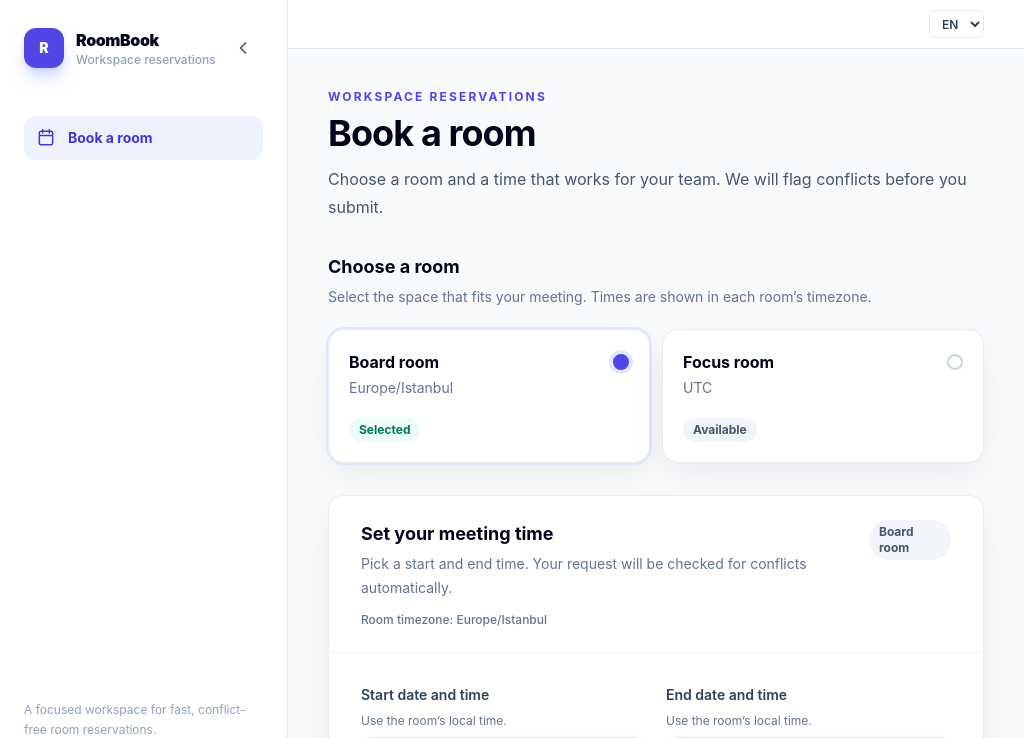
Test: application workspace › selects a real room and updates the booking context
Expected: the radio button labelled "Board room Europe/Istanbul Selected" is shown, [329, 330, 649, 462]
Step 1. Click the radio button labelled "Focus room UTC Available" → (729, 362), box [663, 330, 983, 462]
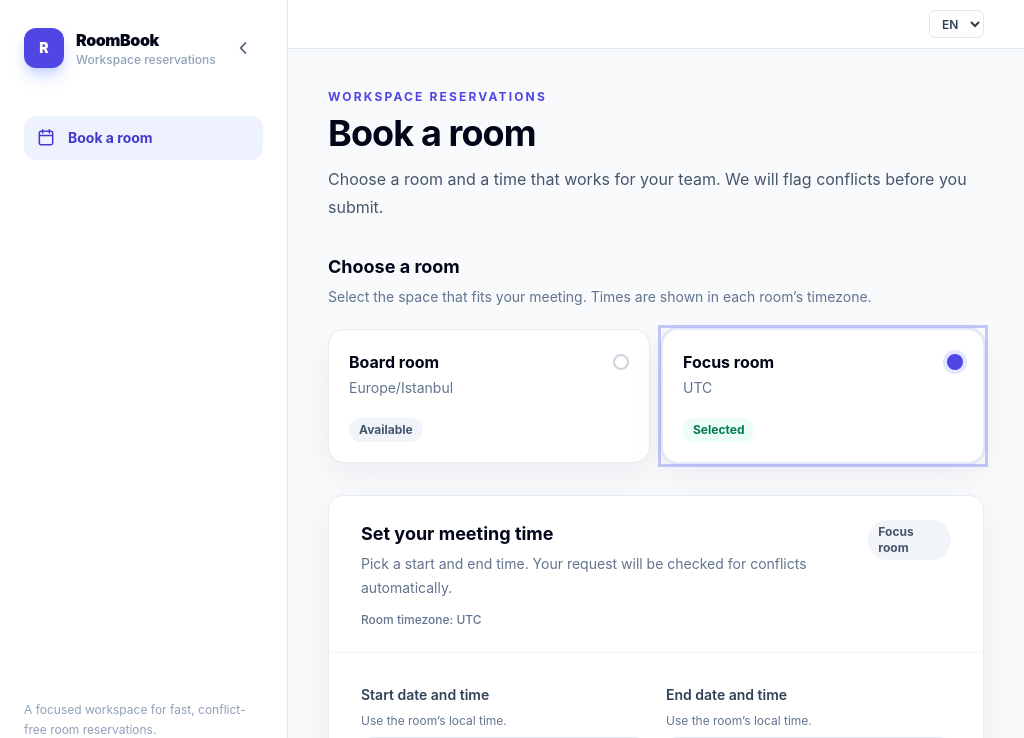
Result: the text "Room timezone: UTC" is shown at [361, 612, 482, 627]
